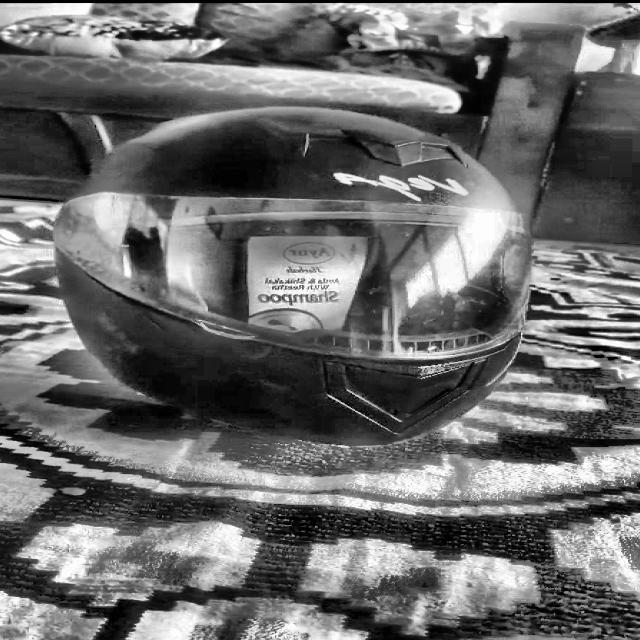Helmet: (29, 98, 535, 459)
